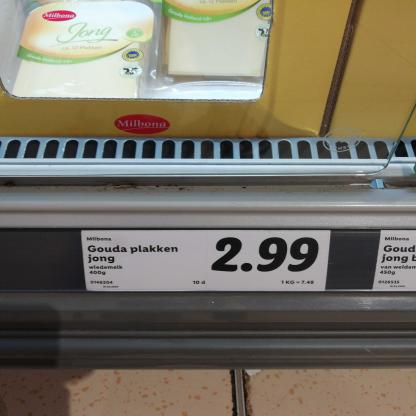prtg: (81, 231, 332, 292), (373, 231, 415, 291)
